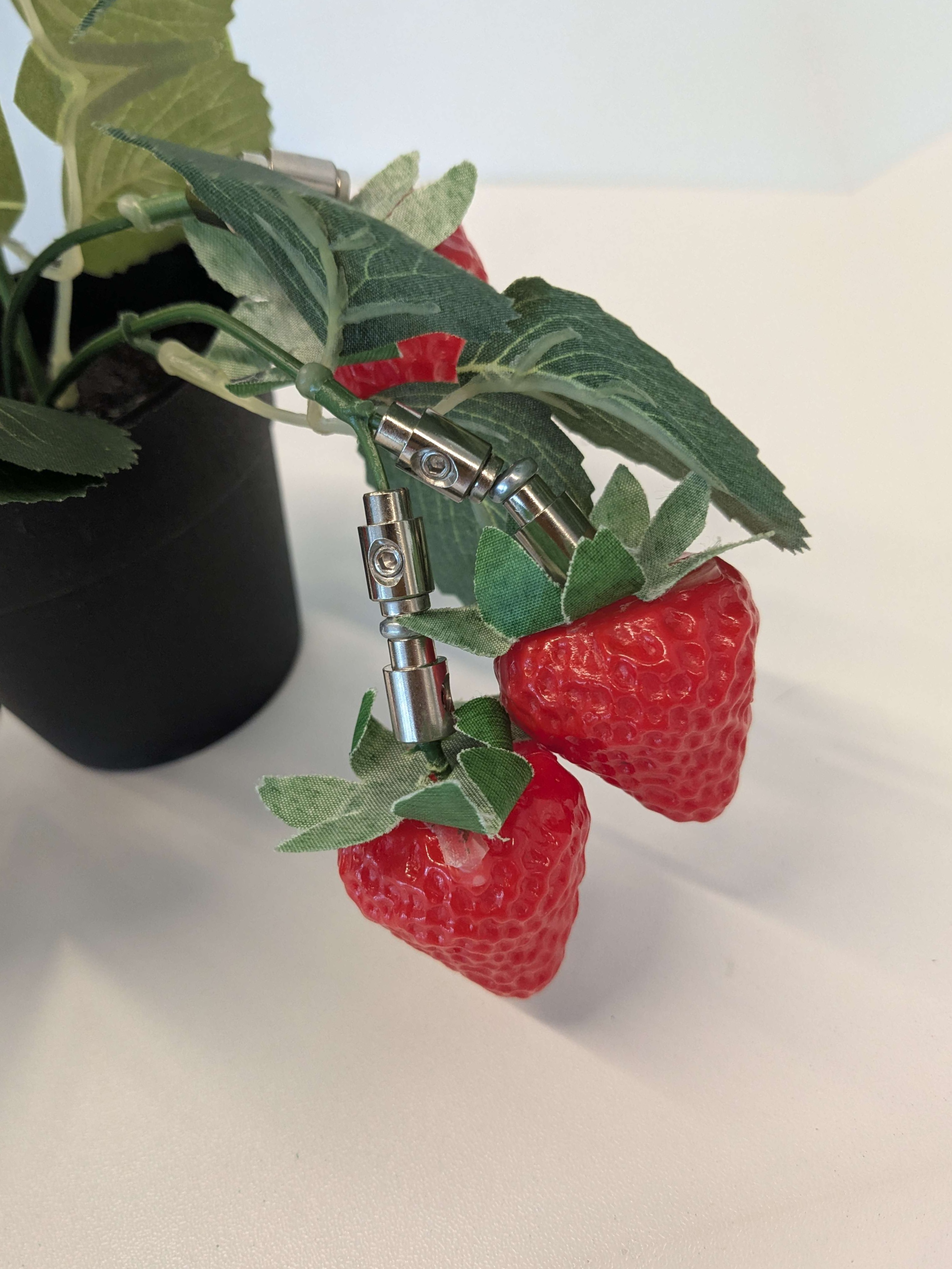Strawberry: (263, 688, 644, 1082), (475, 532, 834, 893), (286, 194, 533, 427)
